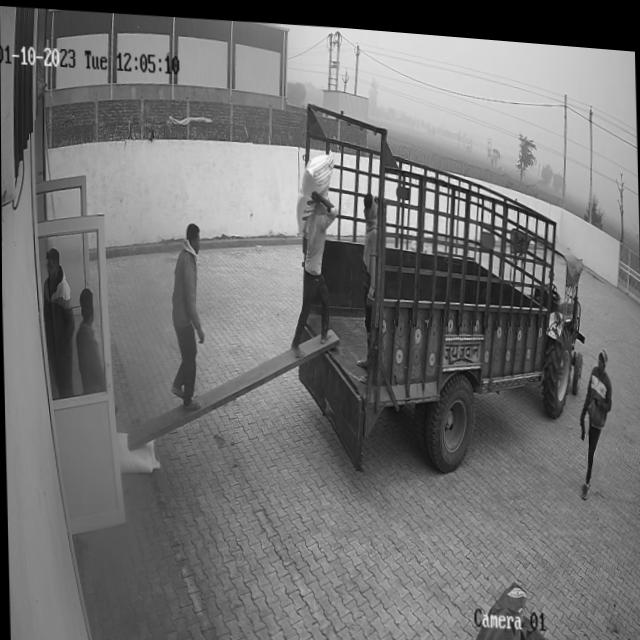sack: (295, 144, 335, 233), (115, 427, 157, 470)
